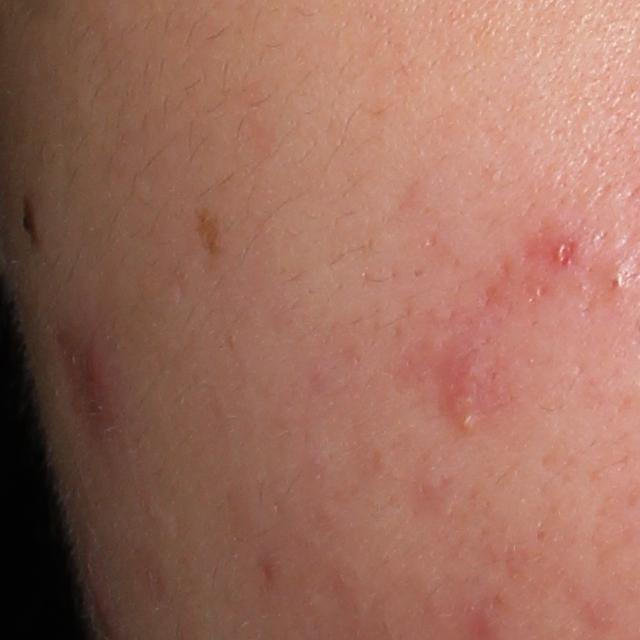nevus: (189, 202, 230, 265), (20, 190, 44, 250)
papule: (76, 347, 131, 432), (439, 377, 479, 436), (86, 574, 119, 639), (547, 235, 580, 276)
